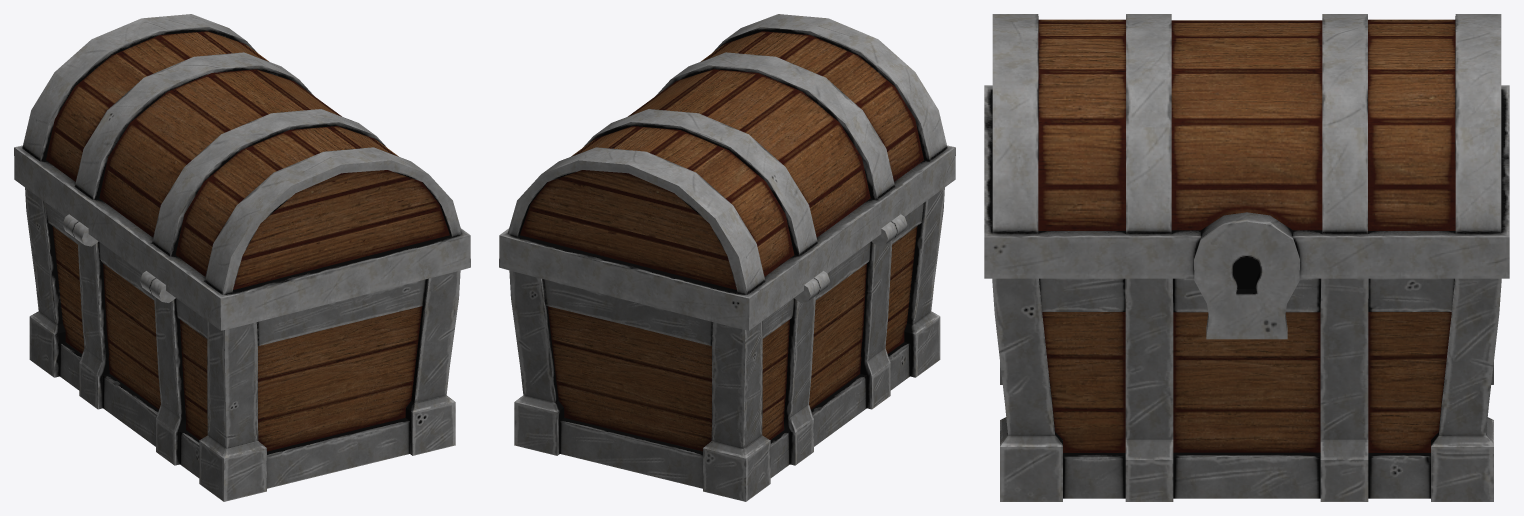
The picture shows the model from 3 angles, left to right: view 1: azimuth 30°, elevation 25°; view 2: azimuth 150°, elevation 25°; view 3: azimuth 270°, elevation 25°; orthographic projection. The views are drawn at different scales.
Parts seen in each view (by area): view 1: Chest_Top, Chest_Bottom; view 2: Chest_Top, Chest_Bottom; view 3: Chest_Top, Chest_Bottom.
Boxes of the visible parts, x1,y1,x2,y2 form: Chest_Top: (14, 14, 470, 330); Chest_Bottom: (25, 187, 460, 501); Chest_Top: (499, 14, 955, 330); Chest_Bottom: (509, 187, 944, 501); Chest_Top: (984, 14, 1509, 339); Chest_Bottom: (992, 278, 1501, 501).
Bounding box in the file's own units: 1.81 × 2.06 × 2.48.
Materials: 1 (1 with a texture image).
